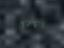four: (18, 18, 23, 27)
one: (36, 20, 41, 28)
six: (30, 19, 35, 28)
two: (24, 19, 29, 27)
